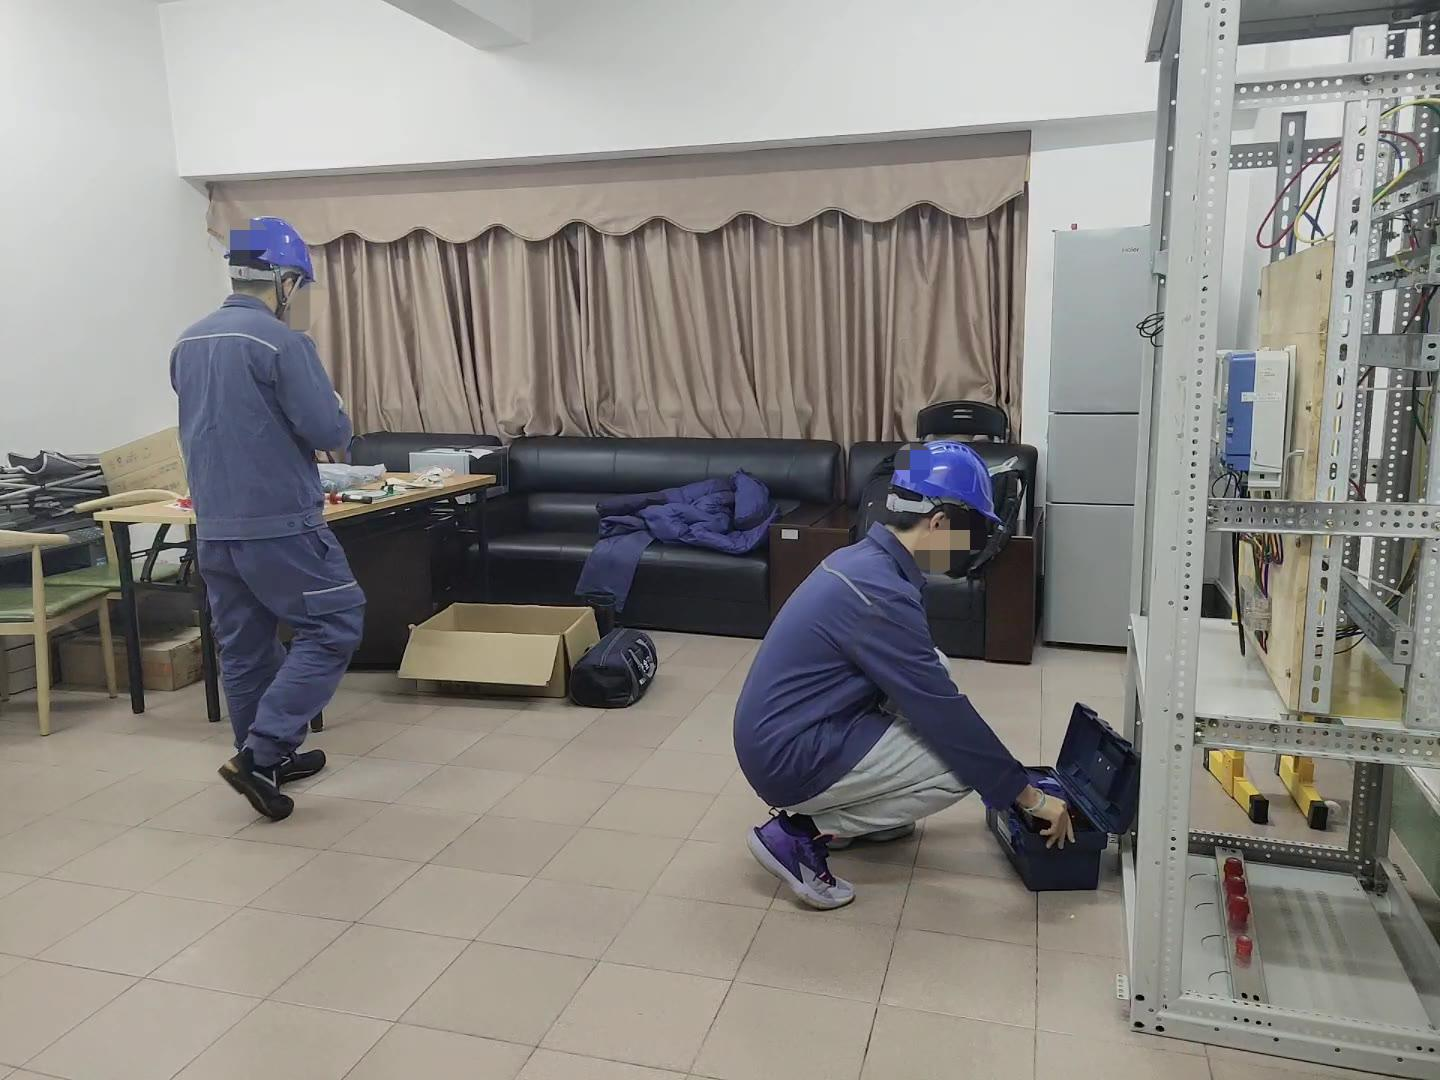halt: (891, 442, 1006, 580), (225, 220, 321, 312)
inear: (274, 268, 305, 317)
noear: (920, 511, 958, 566)
